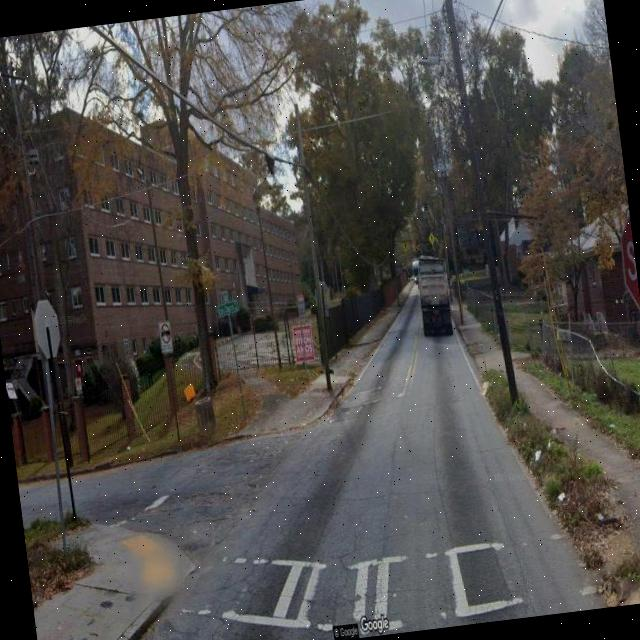trash_can: (194, 394, 217, 434)
